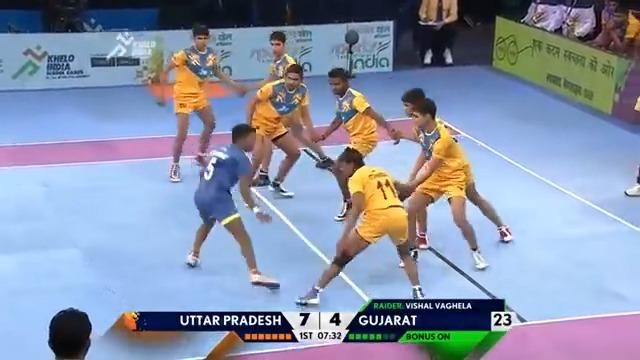Player: (295, 146, 426, 305), (390, 94, 489, 270), (158, 23, 248, 182), (313, 66, 399, 221), (245, 63, 333, 198)
Raider: (184, 123, 280, 289)
referee: (415, 0, 458, 67), (43, 0, 102, 32), (623, 95, 639, 197)
